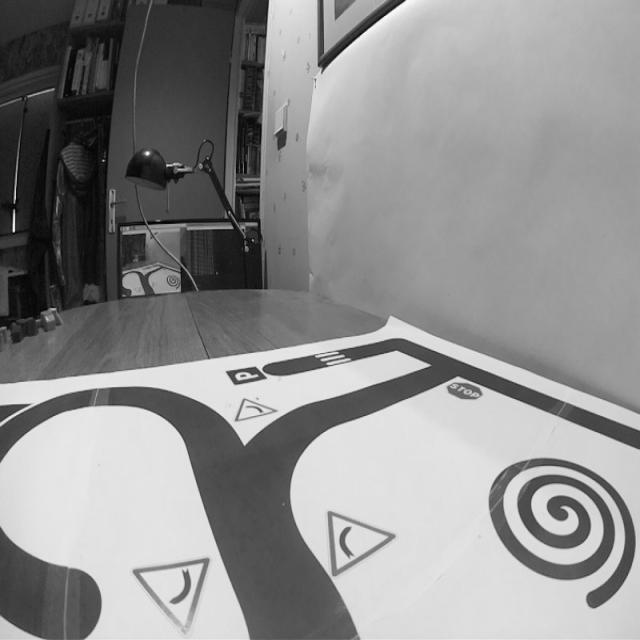nest: (484, 452, 640, 612)
rightTurn: (286, 493, 408, 590)
